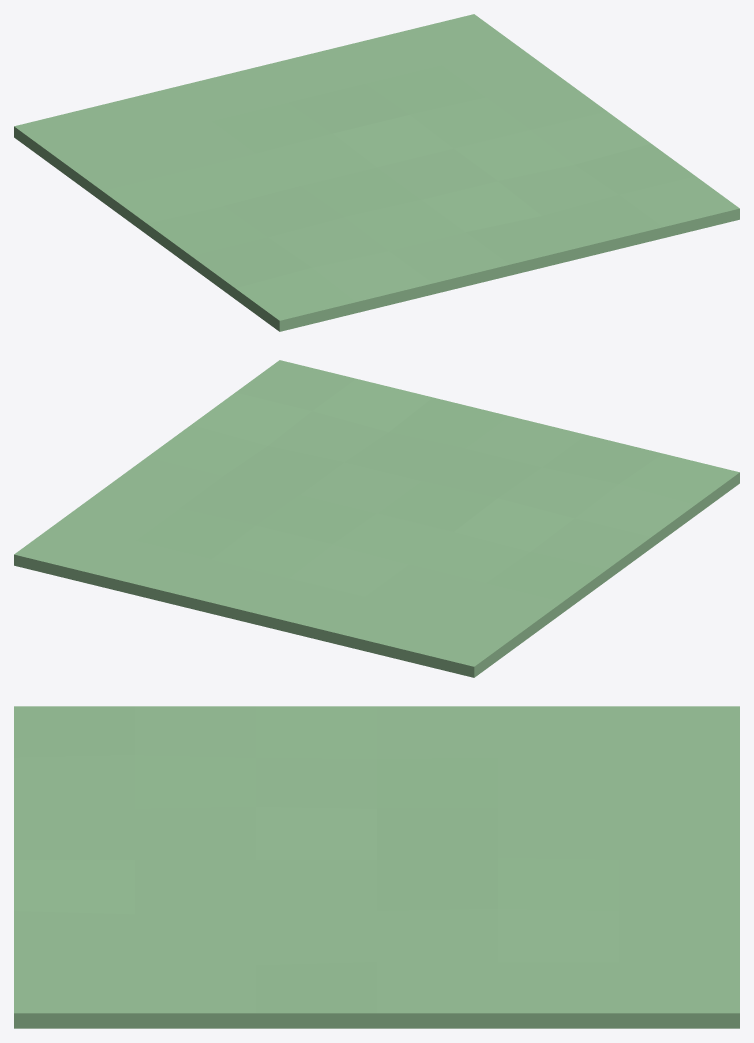
The model's file is Plains I.fbx.
3 renders of one model, top to bottom at view 1: azimuth 30°, elevation 25°; view 2: azimuth 150°, elevation 25°; view 3: azimuth 270°, elevation 25°, orthographic. The views are drawn at different scales.
Parts seen in each view (by area): view 1: Plains I; view 2: Plains I; view 3: Plains I.
Boxes of the visible parts, x1,y1,x2,y2 form: Plains I: [14, 14, 739, 331]; Plains I: [14, 360, 739, 677]; Plains I: [14, 706, 739, 1028].
Bounding box in the file's own units: 1600 × 43.42 × 1600.
